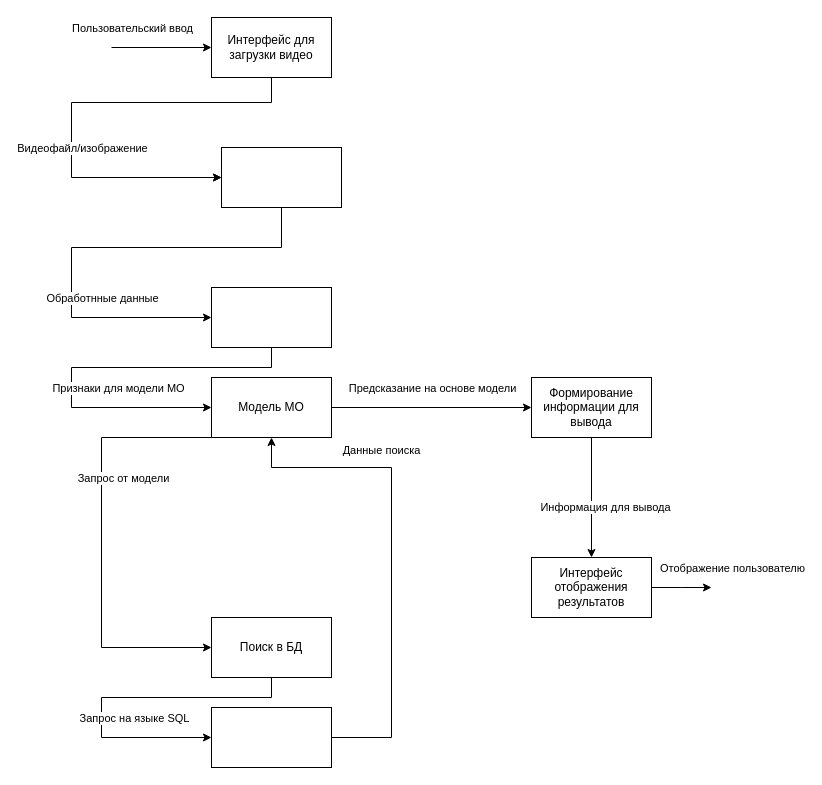
Image size: 822x785. Some labels were removed from this diagram. The centre of each missing label's shape, as x and y in pixels:
Алгоритм извлечения признаков: point 271,317
БД: point 271,737
Компоненты для предобработки: point 281,177
